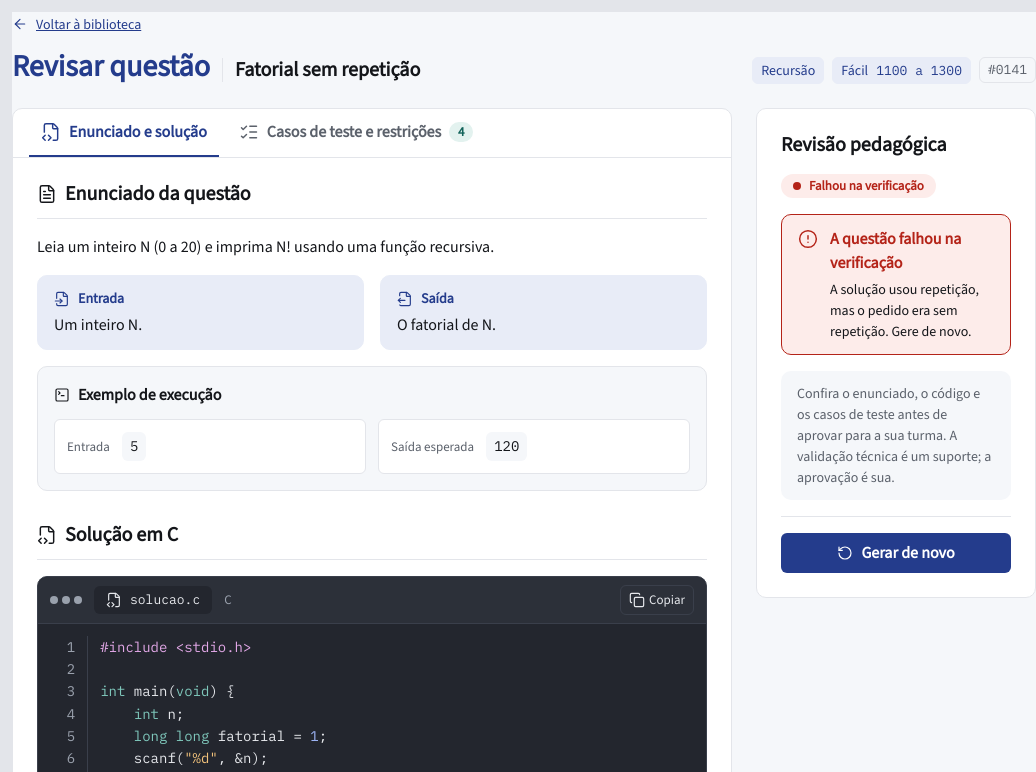
Test case: ReviewView › mostra a causa da falha e oferece gerar de novo
The image size is (1036, 772).
Expected: the text "A questão falhou na verificação" is shown, [830, 228, 961, 273]
Expected: the text "usou repetição" is shown, [830, 280, 979, 341]
Click the button "Gerar de novo". click: (896, 553)
box: [781, 533, 1011, 573]
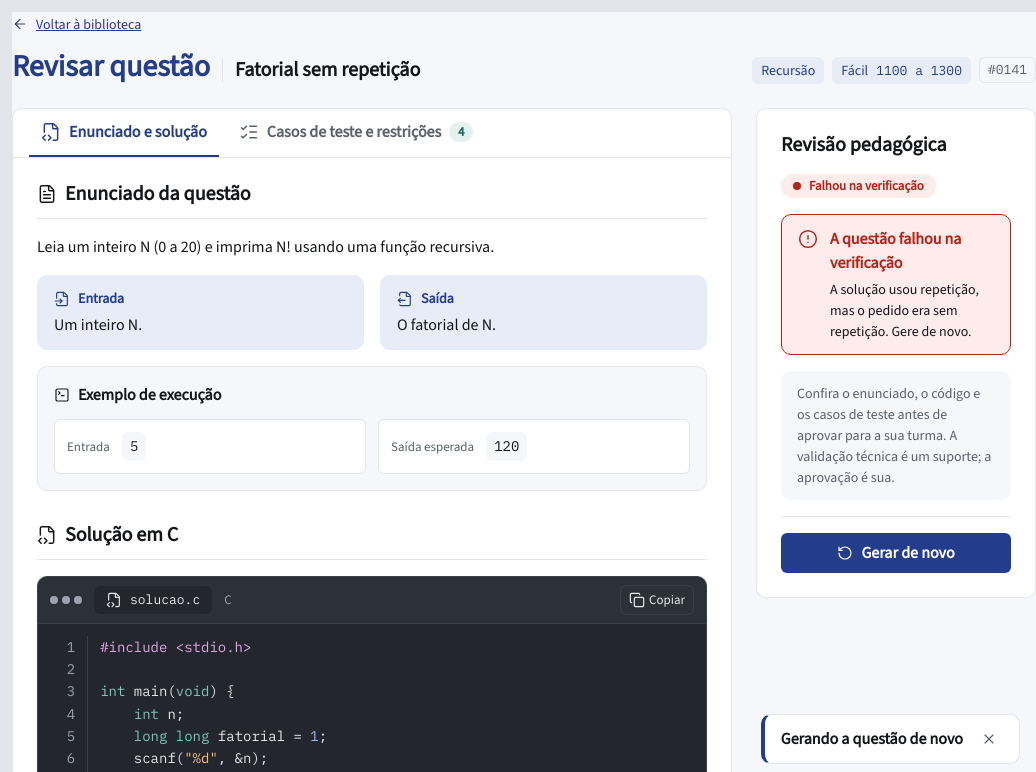
Now the text "Gerando a questão de novo" is shown, box [781, 727, 963, 751]
